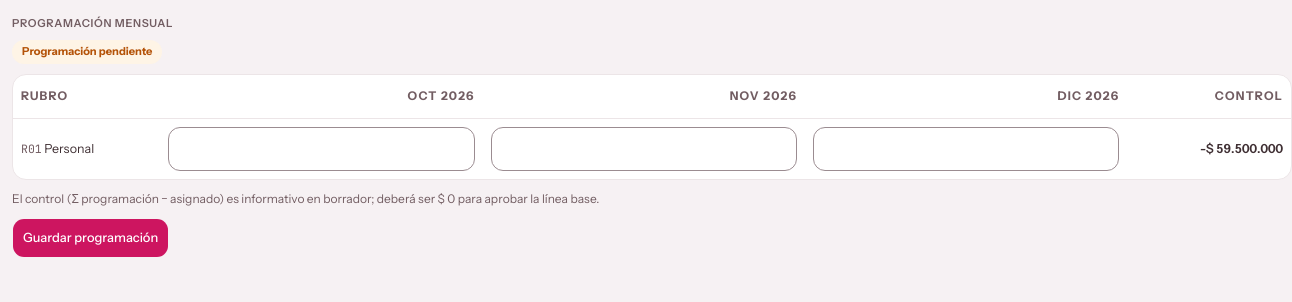
Test: PresupuestoProgramacion › typing 1.234{backspace} shows 1.23 after blur and submits null
Type "1.234" into the field named "Programado R01 nov 2026". click: point(644, 149)
box: [491,127,797,171]
Then press Backspace
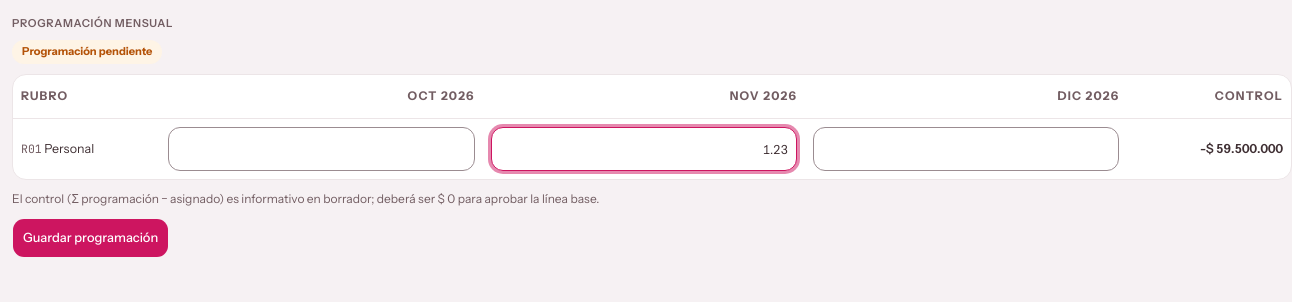
Press Tab
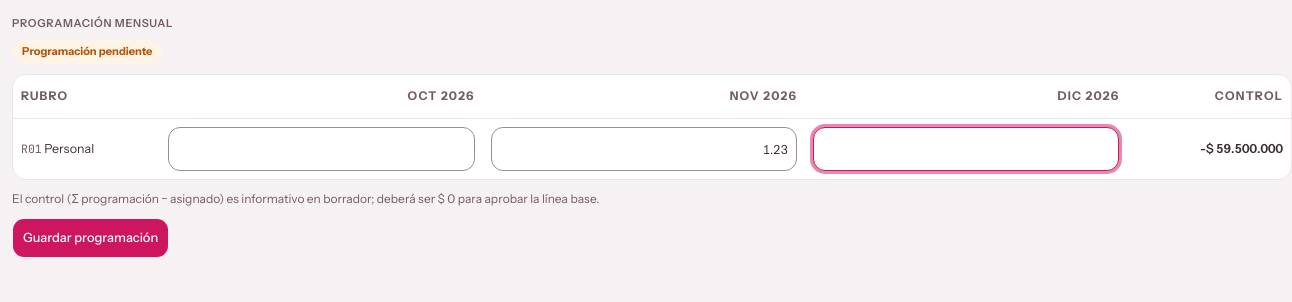
Check: the field named "Programado R01 nov 2026" holds "1.23", box [491,127,797,171]
Click the button "Guardar programación". click: point(91, 238)
box: [12,218,169,258]
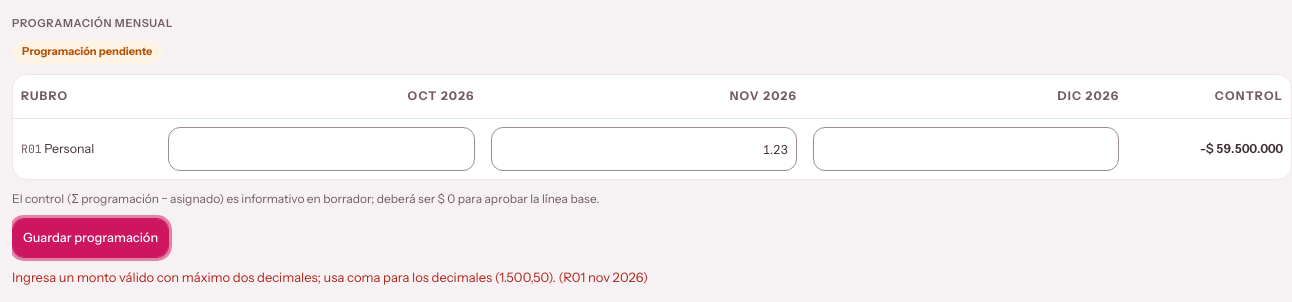
Check: the message shows "Ingresa un monto válido", box [12,269,648,285]
